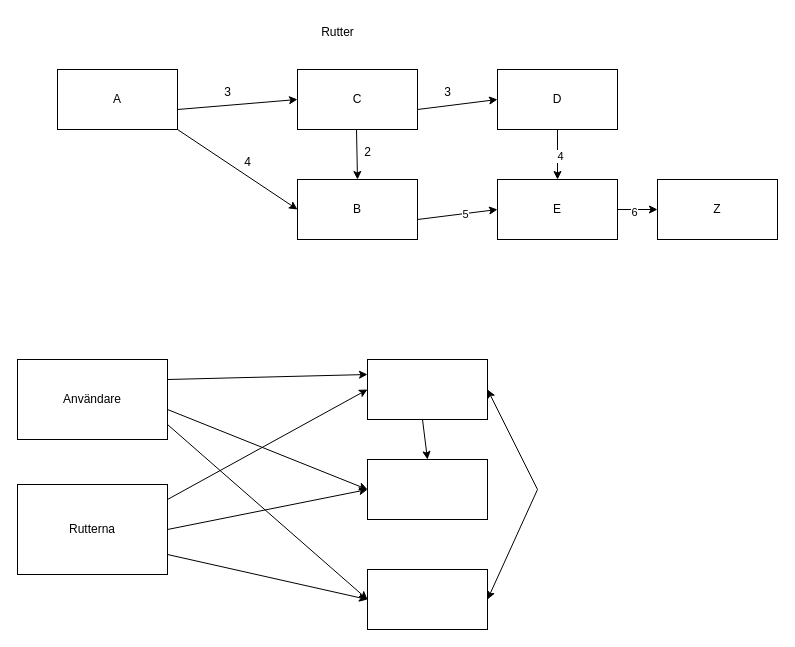
The diagram is 795 pixels wide and 647 high, and some of its shapes have lost their labels. Here are the shapes that lost their labels. From the top down, the centre of each, then its label:
At point 427,389: "Enskild transport (Philip)".
At point 427,489: "grupptransport (Johan)".
At point 427,599: "kommunal transport (Carl-Johan)".
